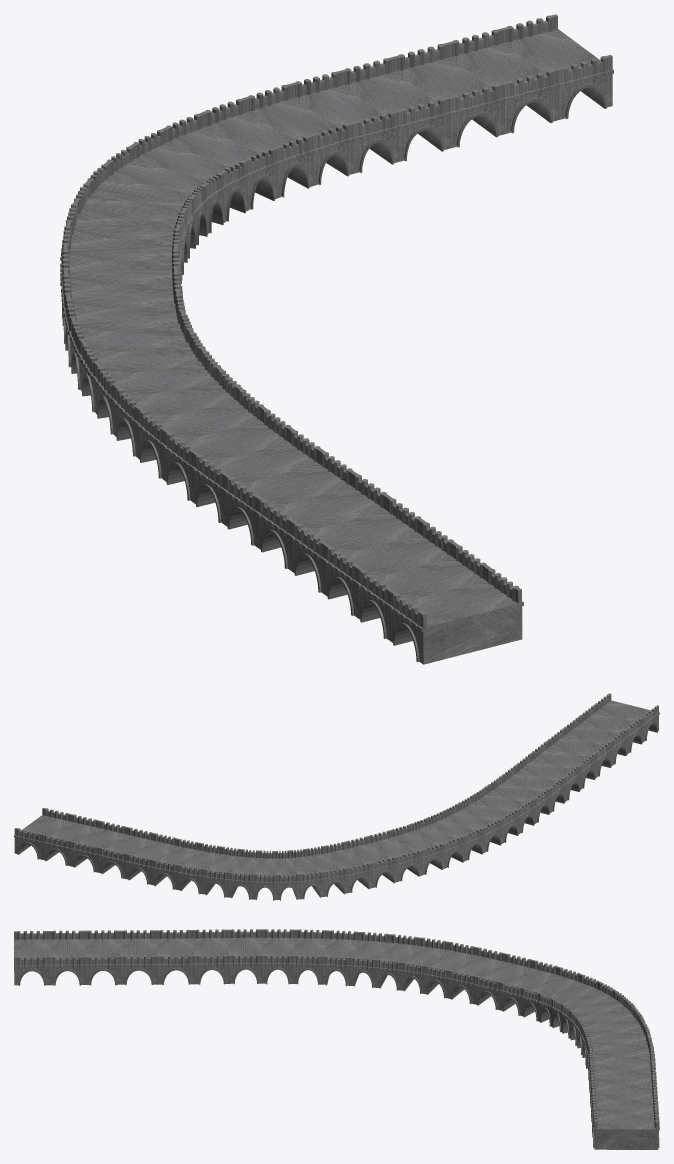
Rendered from Bridge.obj.
3 views of the same model, one above another, from view 1: azimuth 30°, elevation 25°; view 2: azimuth 150°, elevation 25°; view 3: azimuth 270°, elevation 25° (orthographic). The views are drawn at different scales.
Parts seen in each view (by area): view 1: 平面.025_平面.004; view 2: 平面.025_平面.004; view 3: 平面.025_平面.004.
Part boxes in pixels (bbox=[...]): 平面.025_平面.004: bbox=[60, 14, 613, 664]; 平面.025_平面.004: bbox=[14, 693, 659, 900]; 平面.025_平面.004: bbox=[14, 929, 659, 1149].
Bounding box in the file's own units: 196 × 13.97 × 273.
Materials: 1 (1 with a texture image).
